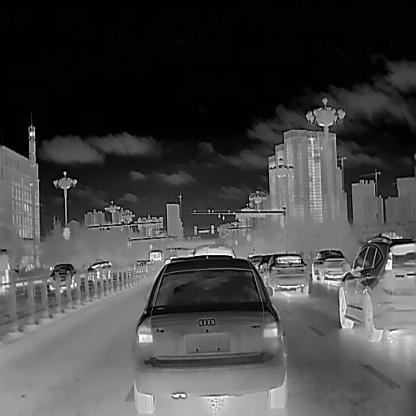car: (132, 258, 285, 396), (338, 235, 416, 342), (262, 253, 307, 295), (310, 250, 346, 281), (47, 262, 75, 289), (87, 260, 111, 275)
